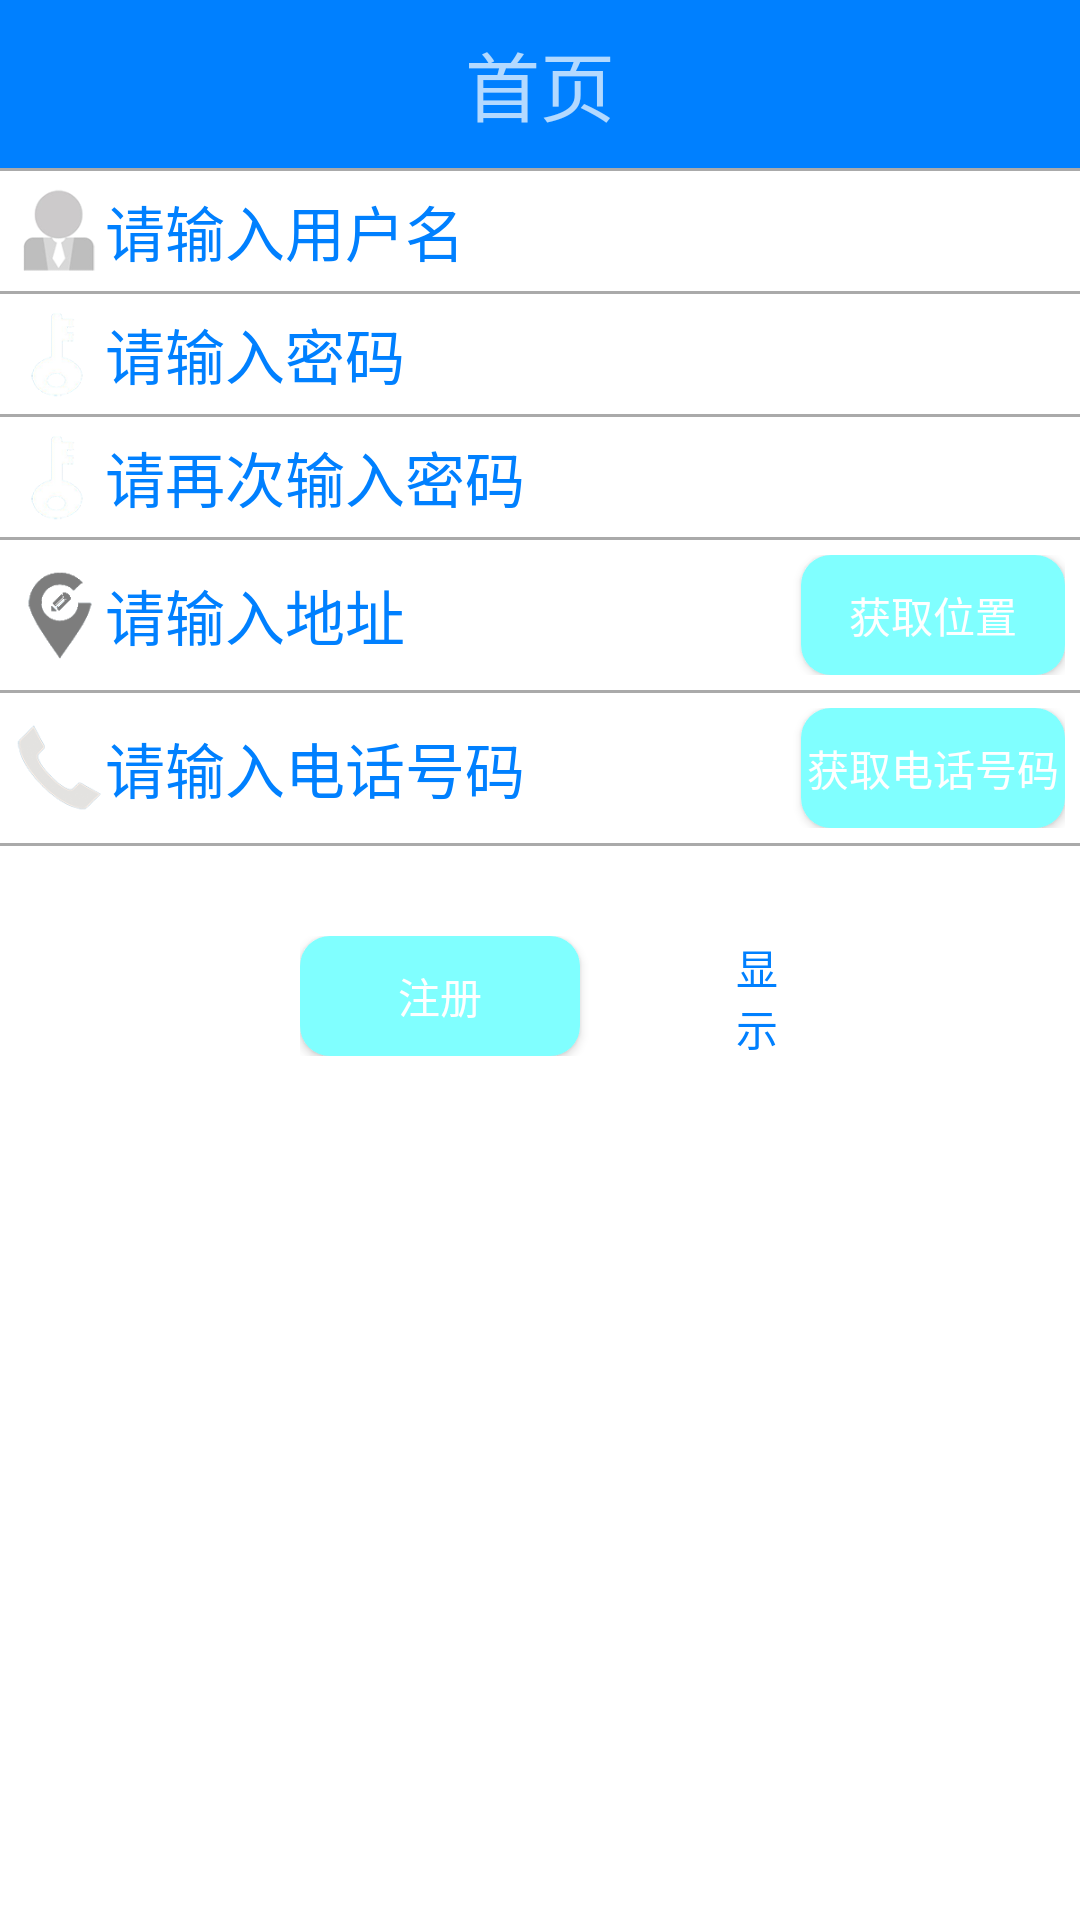

Icon click points for this 1080w x 1920h phone screenshot, format (x=x, y=y):
pos: (x=60, y=615)
tel: (x=59, y=767)
touxiang: (x=59, y=231)
